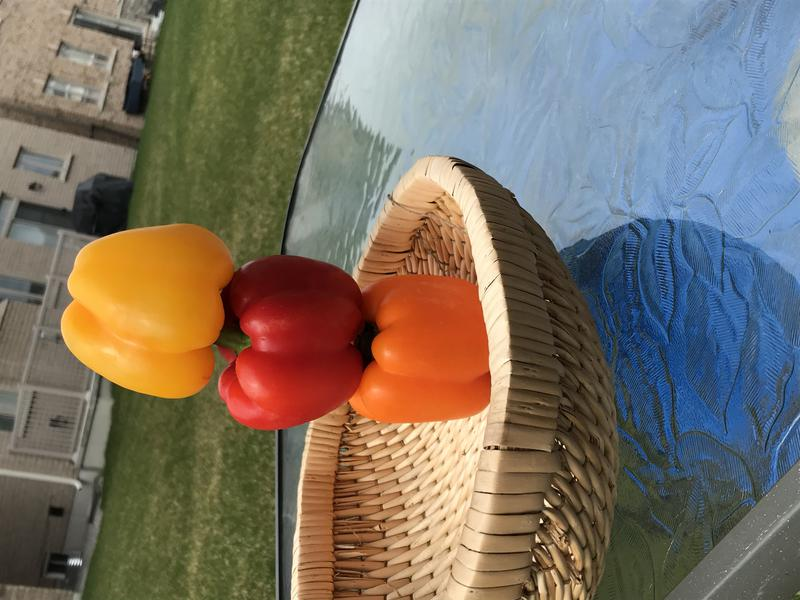orange_pepper: (345, 262, 505, 431)
red_pepper: (216, 246, 370, 440)
yellow_pepper: (53, 211, 242, 410)
